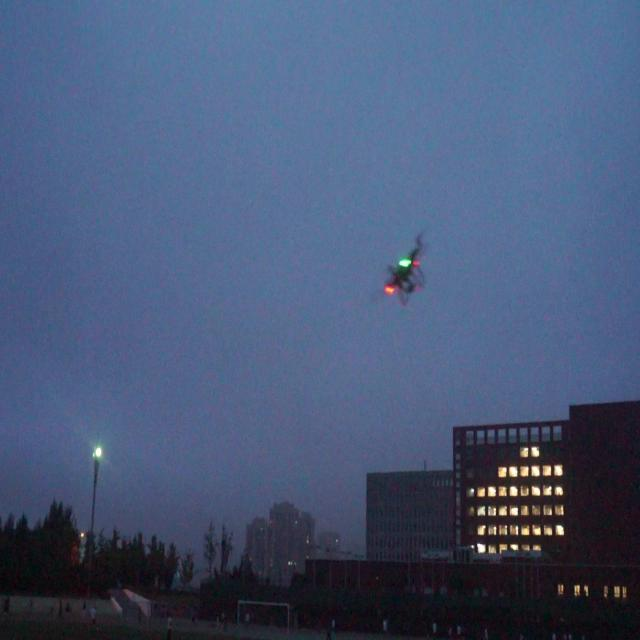UAV: (371, 228, 427, 306)
